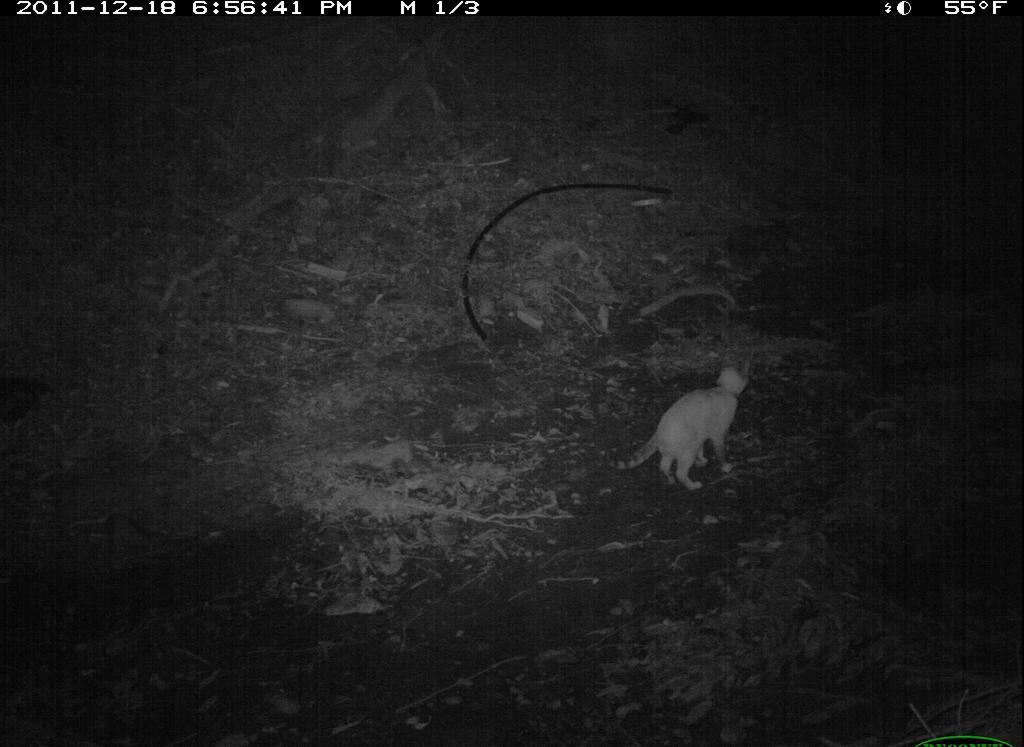cat: (591, 344, 762, 500)
